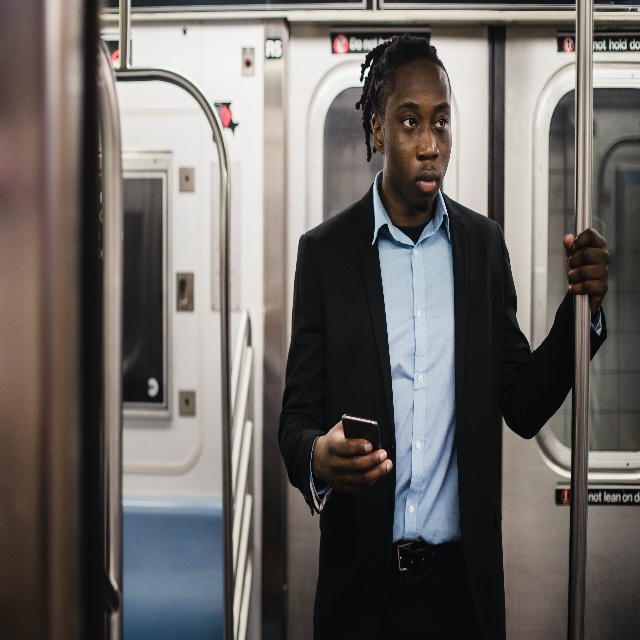Sin_guantes: (326, 418, 398, 486), (562, 233, 610, 295)
